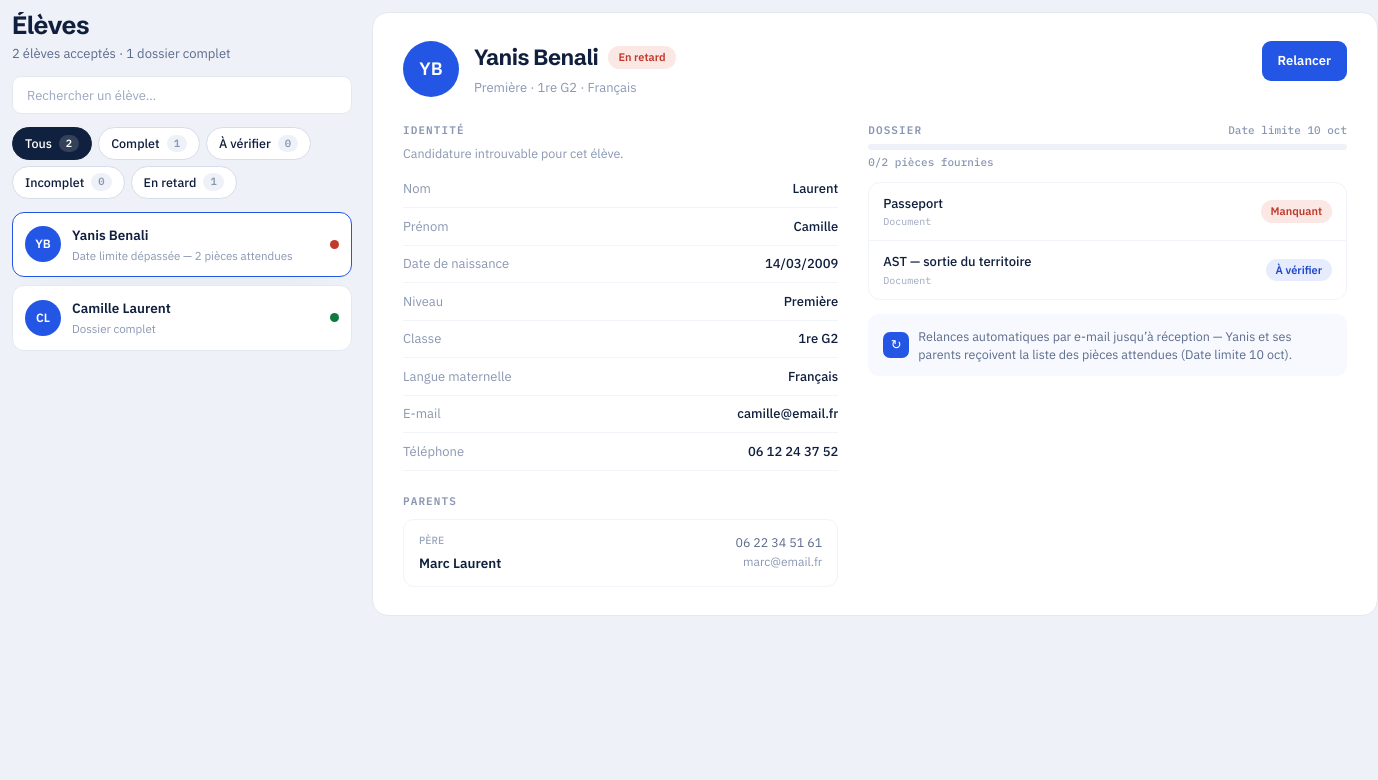
Scenario: StudentsView › search filters accent-insensitively via the page toolbar field
In the search field with placeholder "Rechercher un élève…": (182, 95) [12,76,352,114], type "yanis"
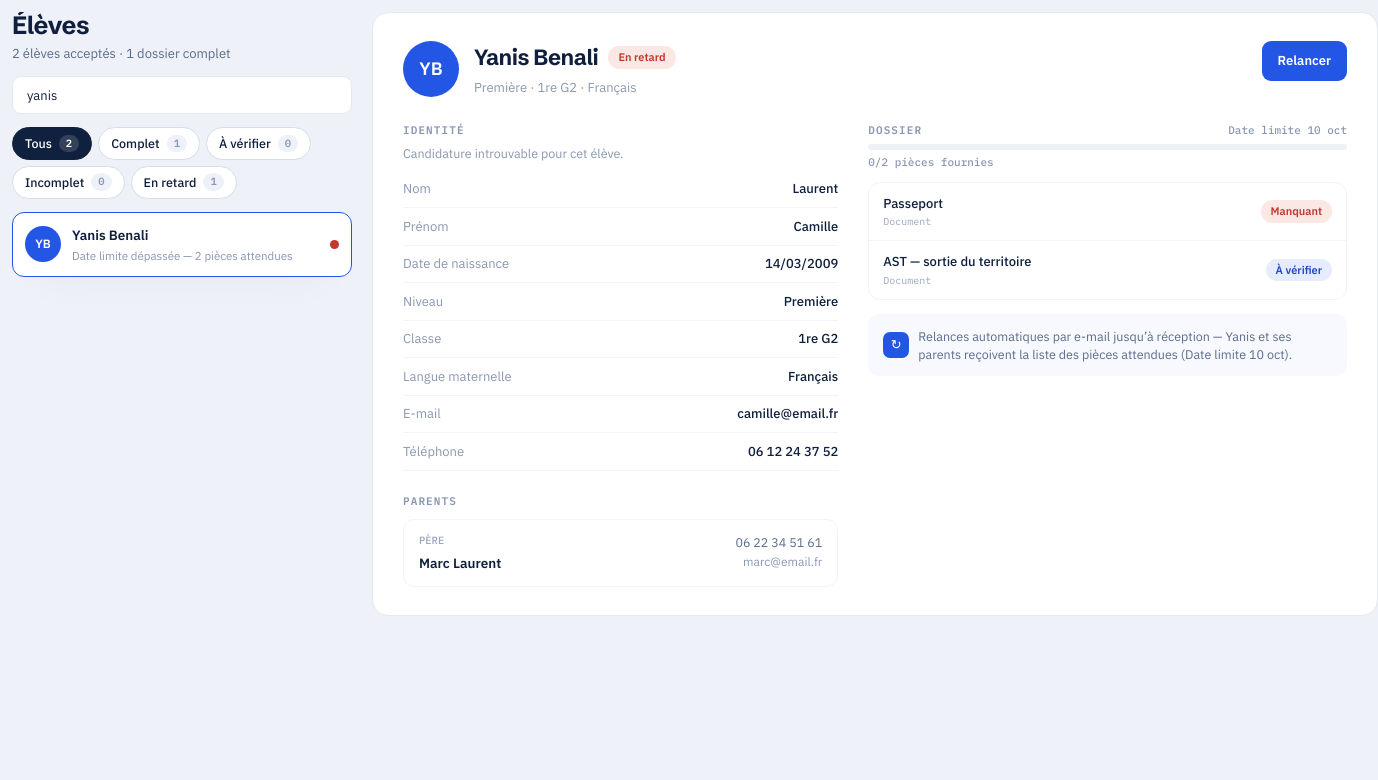
expect the text "Yanis Benali" below "2 élèves acceptés · 1 dossier complet" is shown: met, box [72,226,148,244]
expect no buttons "Camille Laurent" are shown: met
